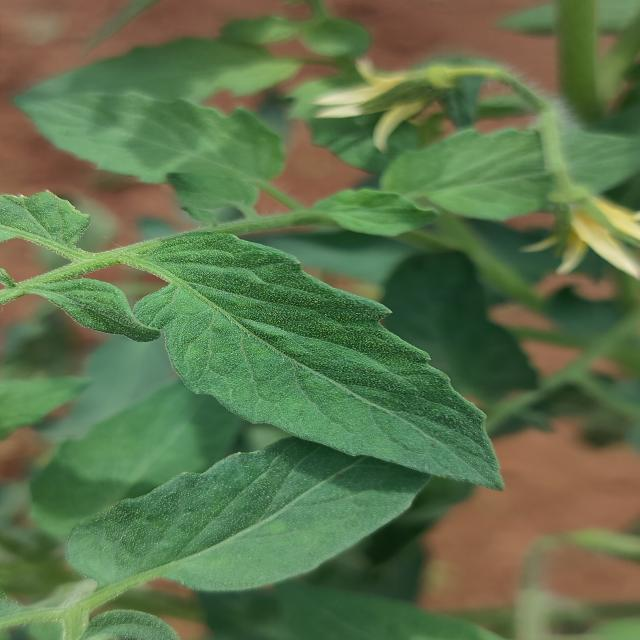tomato_healthy: (121, 232, 501, 488), (39, 412, 497, 592), (20, 82, 313, 207), (366, 123, 640, 221), (158, 157, 292, 226)
